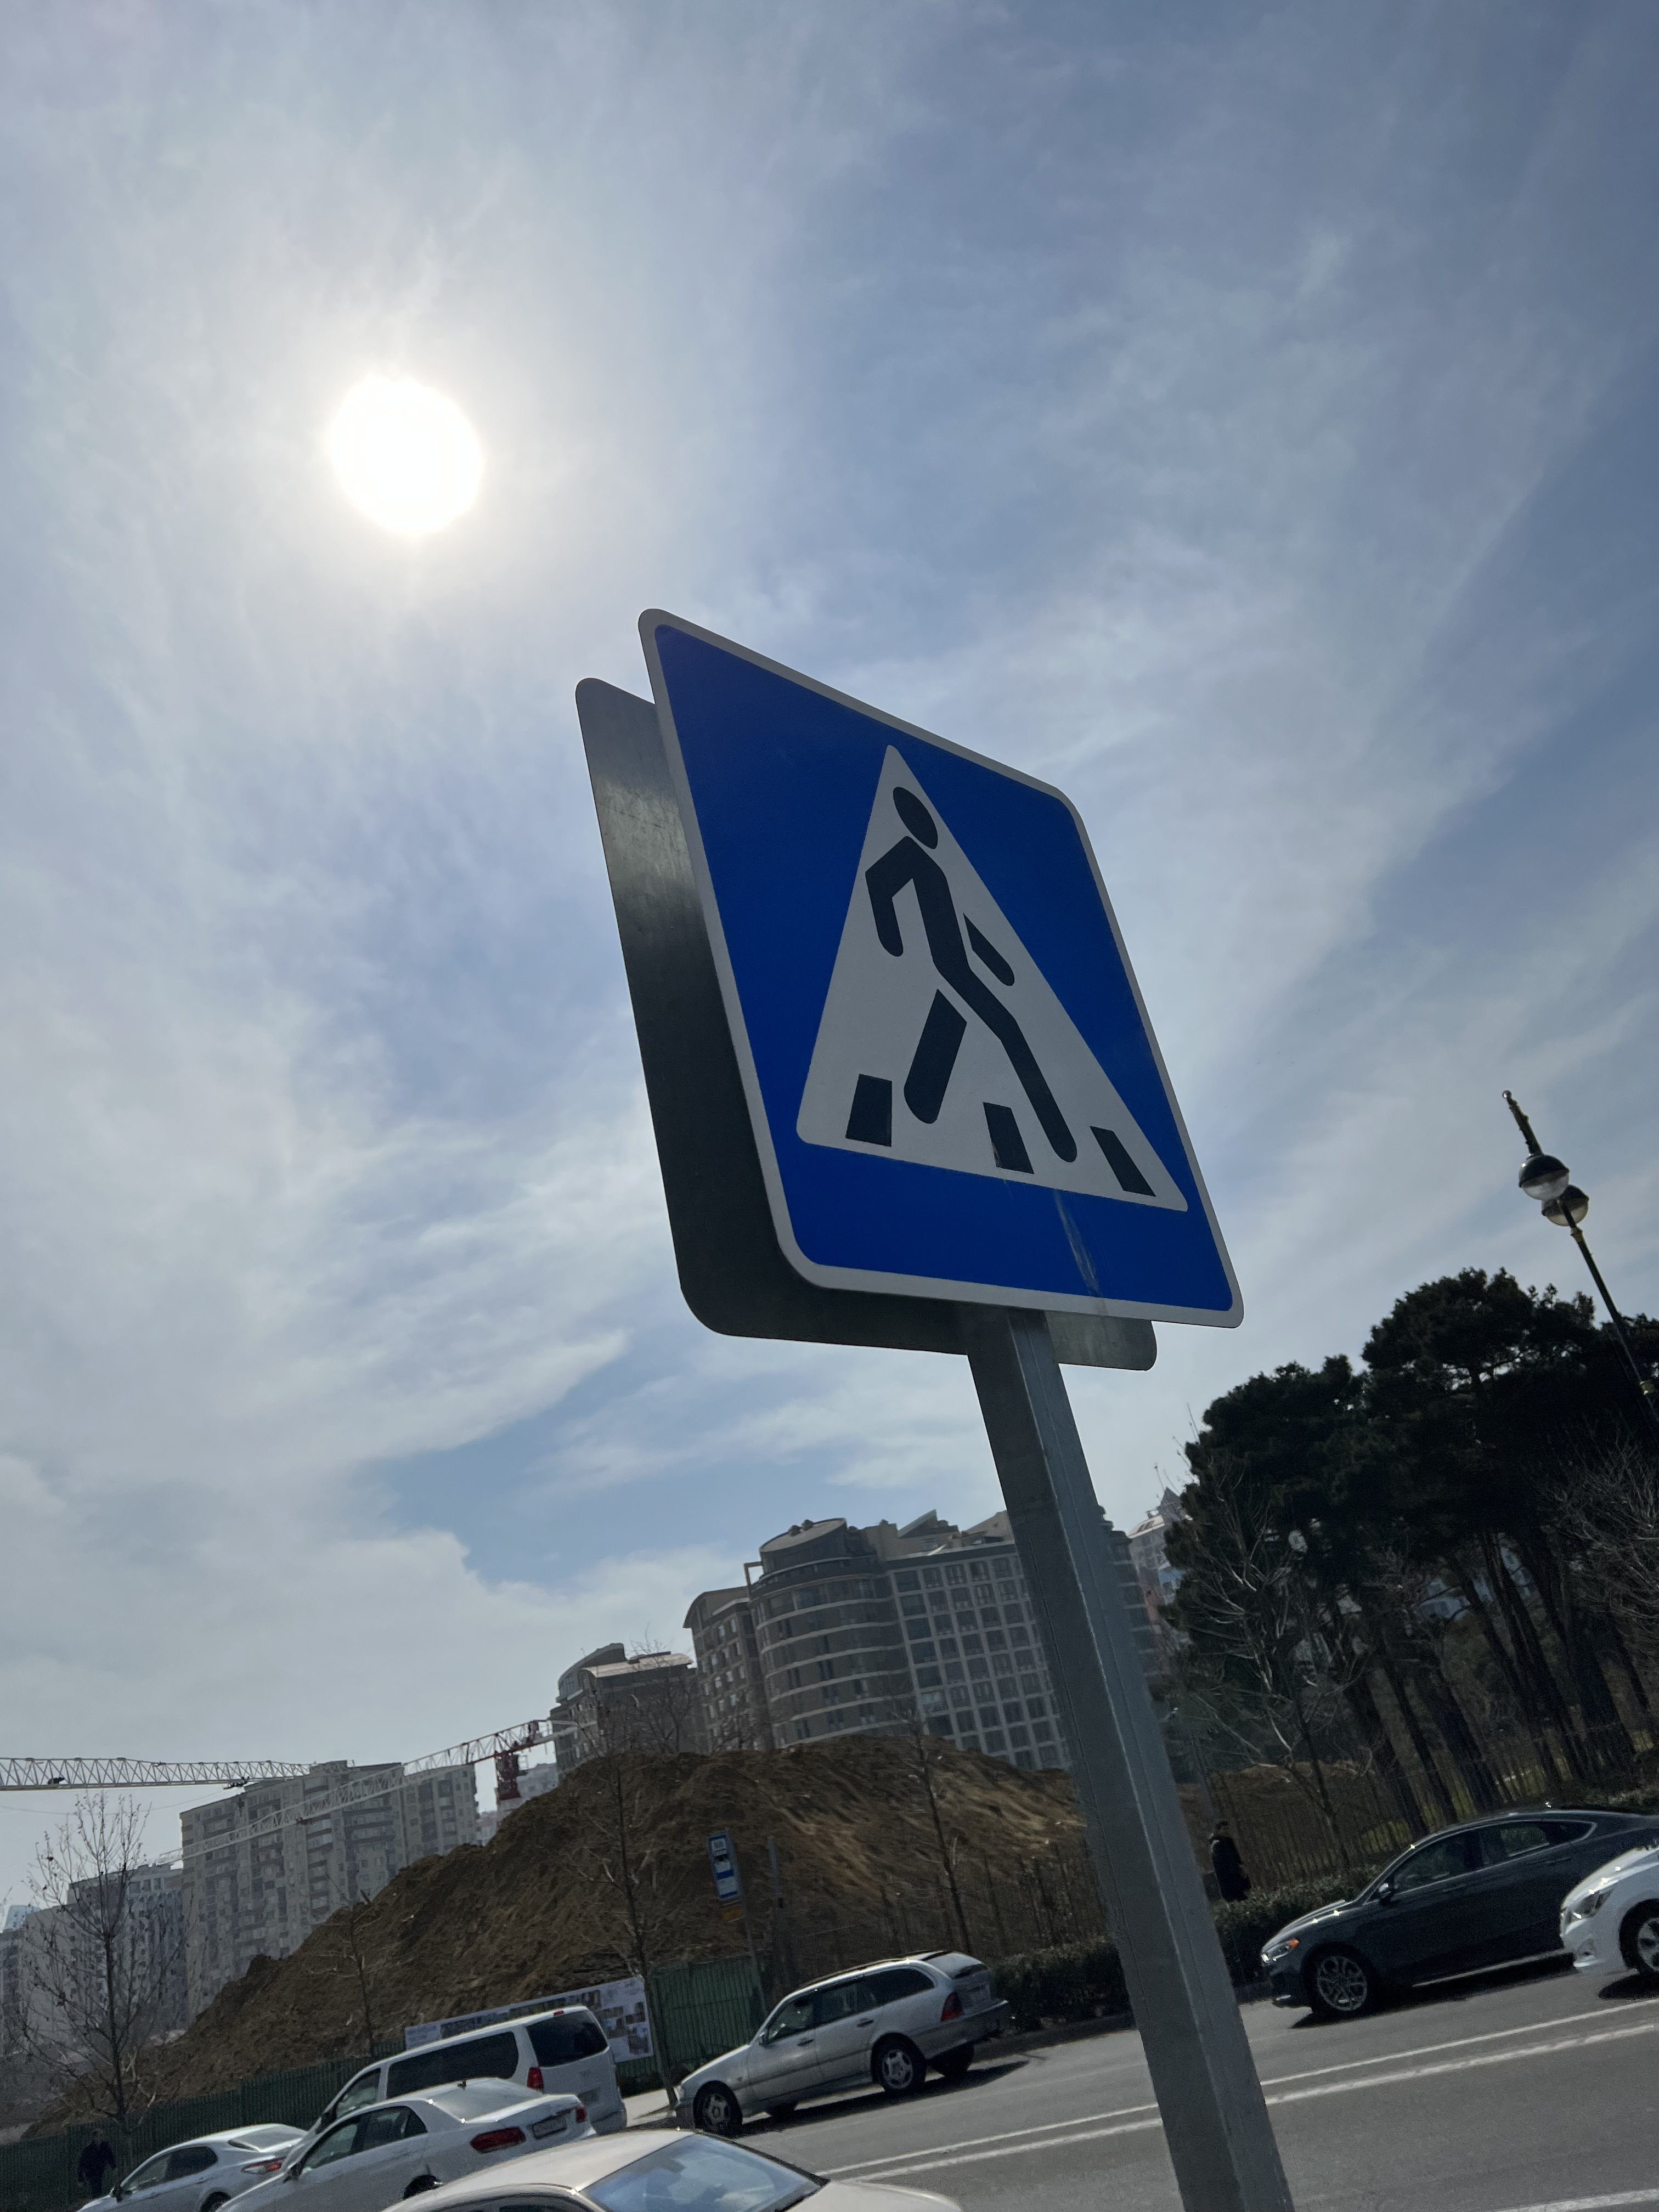Pedestrian Crossing: (641, 613, 1243, 1322)
